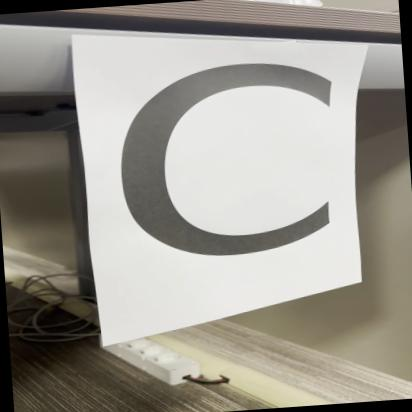seat: (90, 20, 360, 306)
